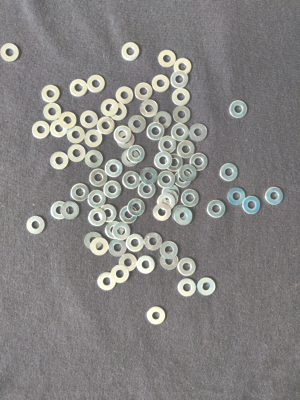circle: (90, 237, 109, 257), (67, 144, 87, 163), (109, 238, 128, 258), (156, 193, 177, 211), (229, 100, 248, 119), (220, 163, 239, 182), (207, 200, 226, 219), (147, 307, 166, 326), (98, 272, 117, 291), (80, 110, 99, 129), (160, 252, 179, 271), (128, 115, 147, 134), (85, 150, 104, 169), (89, 169, 108, 188), (190, 153, 209, 172), (181, 189, 200, 208), (122, 171, 141, 190), (112, 222, 131, 241), (153, 203, 172, 222), (136, 256, 156, 274), (106, 221, 124, 241), (125, 234, 145, 252), (266, 187, 284, 206), (243, 196, 261, 215), (178, 279, 197, 297), (27, 216, 45, 235), (52, 201, 70, 220), (1, 43, 19, 62), (43, 103, 62, 121), (87, 75, 106, 93), (122, 43, 141, 61), (112, 265, 130, 284), (173, 106, 192, 124), (189, 123, 208, 141), (50, 152, 69, 170), (97, 117, 115, 136), (154, 111, 172, 130), (160, 241, 178, 260), (178, 258, 197, 276), (177, 141, 196, 159), (165, 154, 184, 172), (122, 149, 140, 168), (85, 129, 103, 148), (88, 191, 107, 209), (88, 209, 107, 227), (99, 204, 117, 223), (172, 205, 191, 223), (175, 207, 193, 226), (228, 188, 246, 206), (198, 278, 216, 296), (61, 202, 79, 220), (42, 85, 60, 103), (32, 121, 50, 139), (159, 50, 177, 68), (119, 254, 137, 272), (84, 232, 102, 250), (174, 58, 192, 76), (135, 83, 153, 101), (152, 75, 170, 93), (140, 100, 158, 118), (50, 120, 68, 138), (67, 126, 85, 144), (101, 99, 119, 117), (147, 123, 165, 141), (172, 123, 190, 141), (159, 136, 177, 154), (154, 152, 172, 170), (114, 126, 132, 144), (105, 160, 123, 178), (104, 181, 122, 199), (71, 184, 89, 202), (174, 170, 192, 188), (158, 171, 176, 189), (161, 190, 179, 208), (172, 89, 191, 106), (140, 168, 159, 185), (145, 233, 162, 252), (171, 72, 189, 89), (116, 87, 134, 104), (59, 112, 77, 129), (110, 104, 128, 121), (128, 146, 145, 164), (179, 165, 197, 182), (138, 182, 156, 199), (120, 207, 138, 224), (162, 185, 180, 202), (70, 80, 87, 97), (118, 132, 135, 149), (128, 199, 145, 216)
